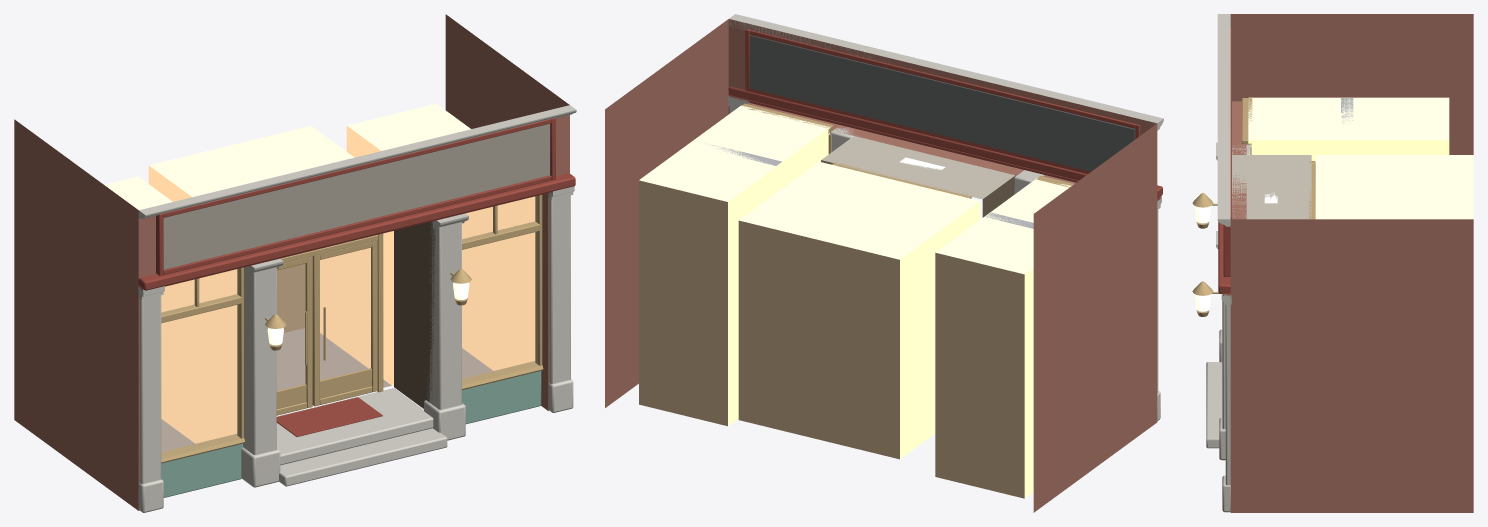
The model's file is inn_6a.glb.
3 renders of one model, left to right at view 1: azimuth 30°, elevation 25°; view 2: azimuth 150°, elevation 25°; view 3: azimuth 270°, elevation 25°, orthographic. The views are drawn at different scales.
Parts seen in each view (by area): view 1: inn_6a; view 2: inn_6a; view 3: inn_6a.
Part boxes in pixels (left/top/right/bottom): inn_6a: left=14, top=14, right=576, bottom=512; inn_6a: left=605, top=14, right=1163, bottom=512; inn_6a: left=1192, top=14, right=1473, bottom=512.
Size of the model in its own units: 6 by 4 by 3.47.
